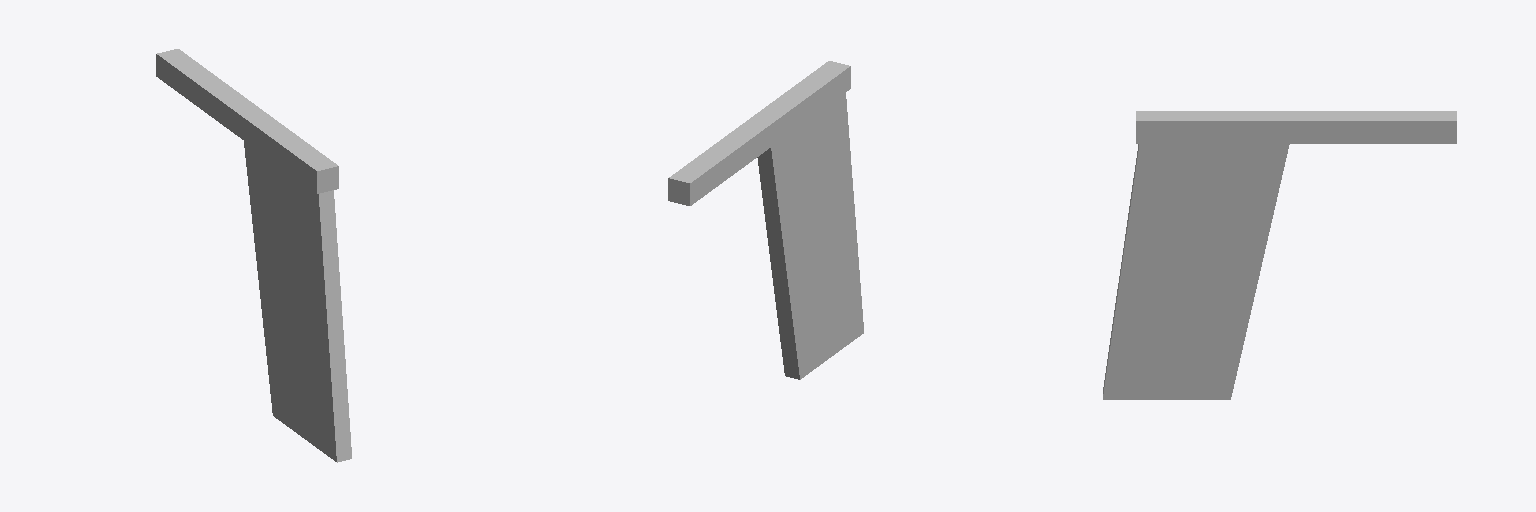
The model's file is rudder.obj.
3 renders of one model, left to right at view 1: azimuth 30°, elevation 25°; view 2: azimuth 150°, elevation 25°; view 3: azimuth 270°, elevation 25°, orthographic.
Visible parts, largest first — view 1: Cube.002; view 2: Cube.002; view 3: Cube.002.
Boxes of the visible parts, <box> form: Cube.002: <box>156,49,351,462</box>; Cube.002: <box>668,61,863,379</box>; Cube.002: <box>1103,111,1456,399</box>.
Size of the model in its own units: 0.12 by 1.47 by 1.68.